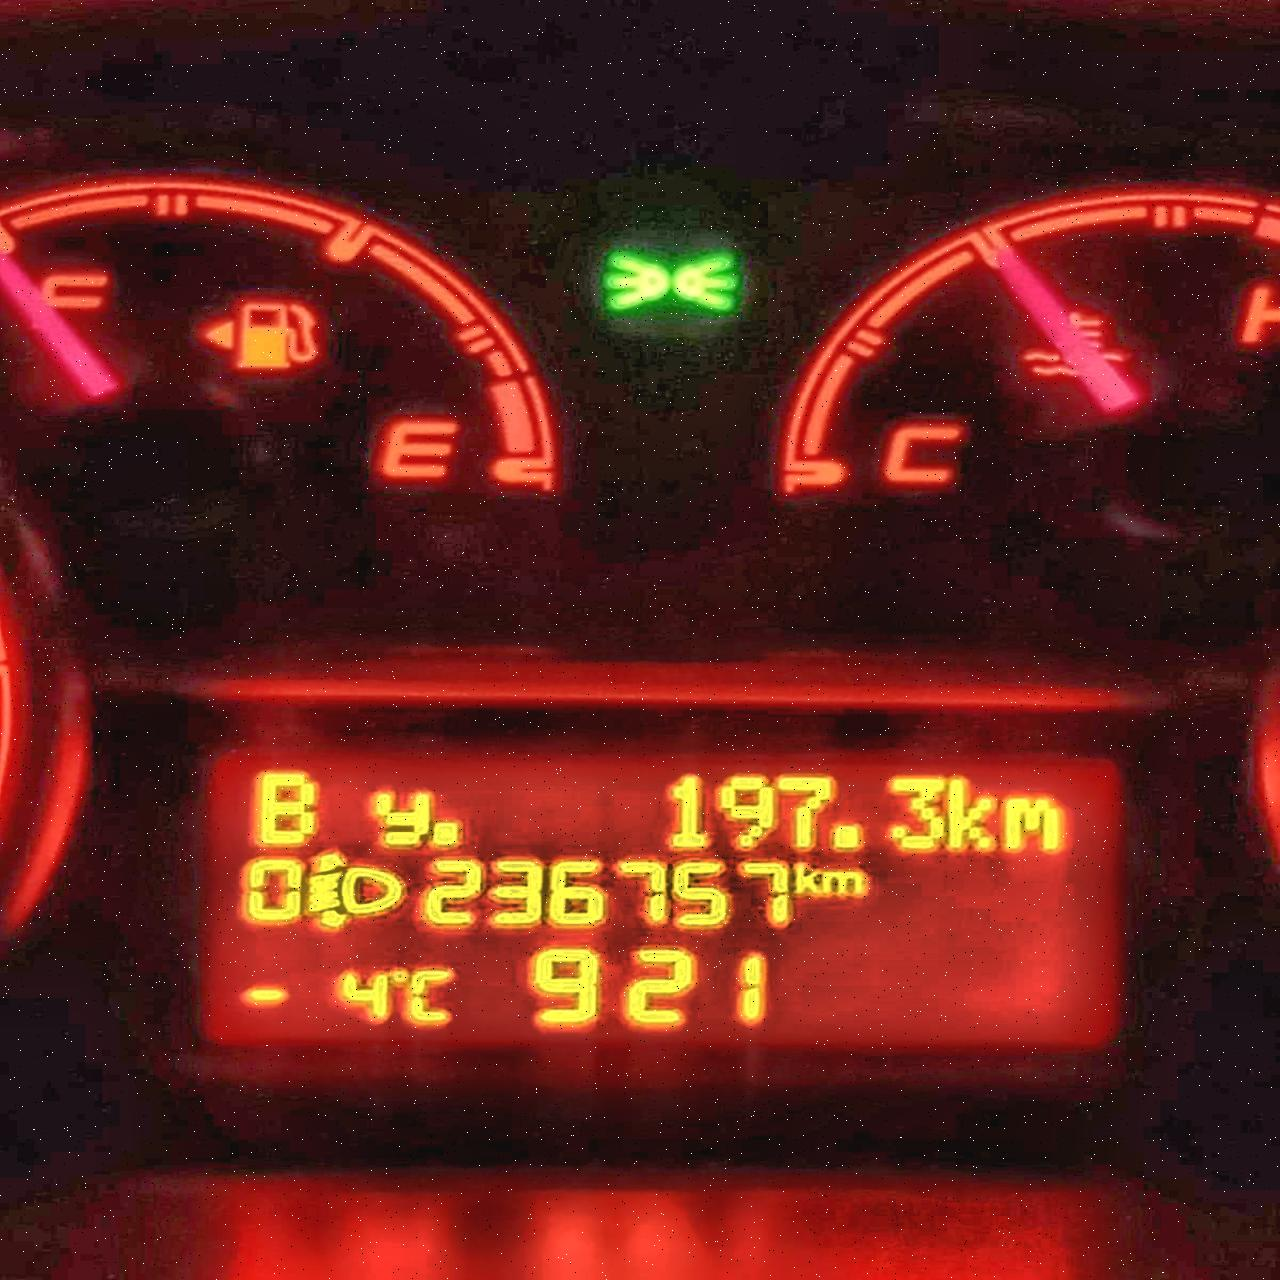-: (829, 824, 864, 851), (430, 819, 462, 847)
0: (244, 856, 302, 921)
1: (667, 775, 707, 850), (740, 951, 764, 1028)
2: (620, 947, 697, 1026), (420, 857, 482, 926)
3: (885, 775, 947, 853), (486, 858, 543, 927)
4: (333, 968, 389, 1026)
5: (669, 859, 728, 926)
6: (545, 858, 607, 926)
7: (775, 774, 837, 852), (736, 857, 794, 927), (613, 858, 668, 924)
9: (526, 946, 600, 1026), (715, 775, 776, 852)
X: (253, 770, 318, 847), (945, 776, 1000, 853), (1001, 795, 1064, 851), (370, 789, 431, 846), (406, 967, 456, 1022), (821, 871, 869, 896), (791, 862, 821, 896)
odometer: (192, 745, 1135, 1055)
